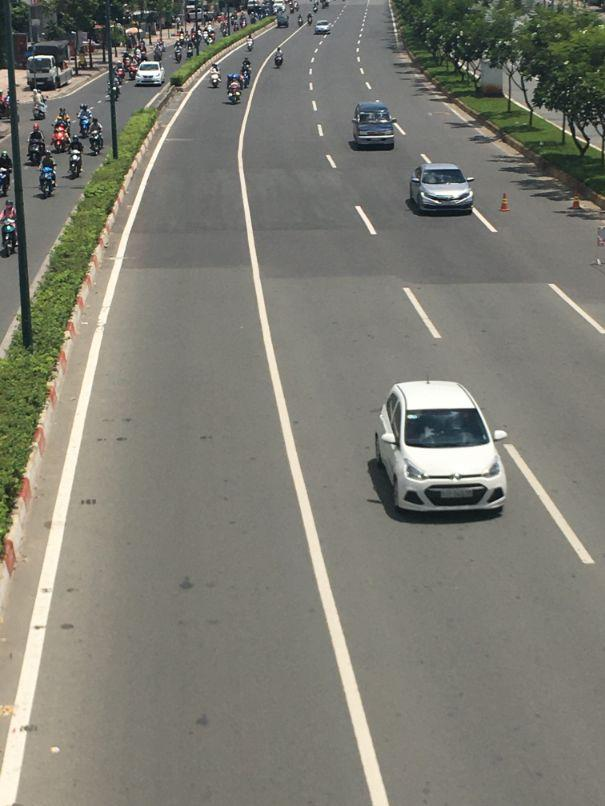car: (370, 379, 507, 519), (409, 163, 475, 217), (351, 100, 397, 150), (136, 62, 165, 87), (315, 22, 330, 35)
motorbike: (0, 203, 19, 260), (38, 164, 58, 198), (88, 122, 102, 154)
truck: (28, 44, 71, 94)
